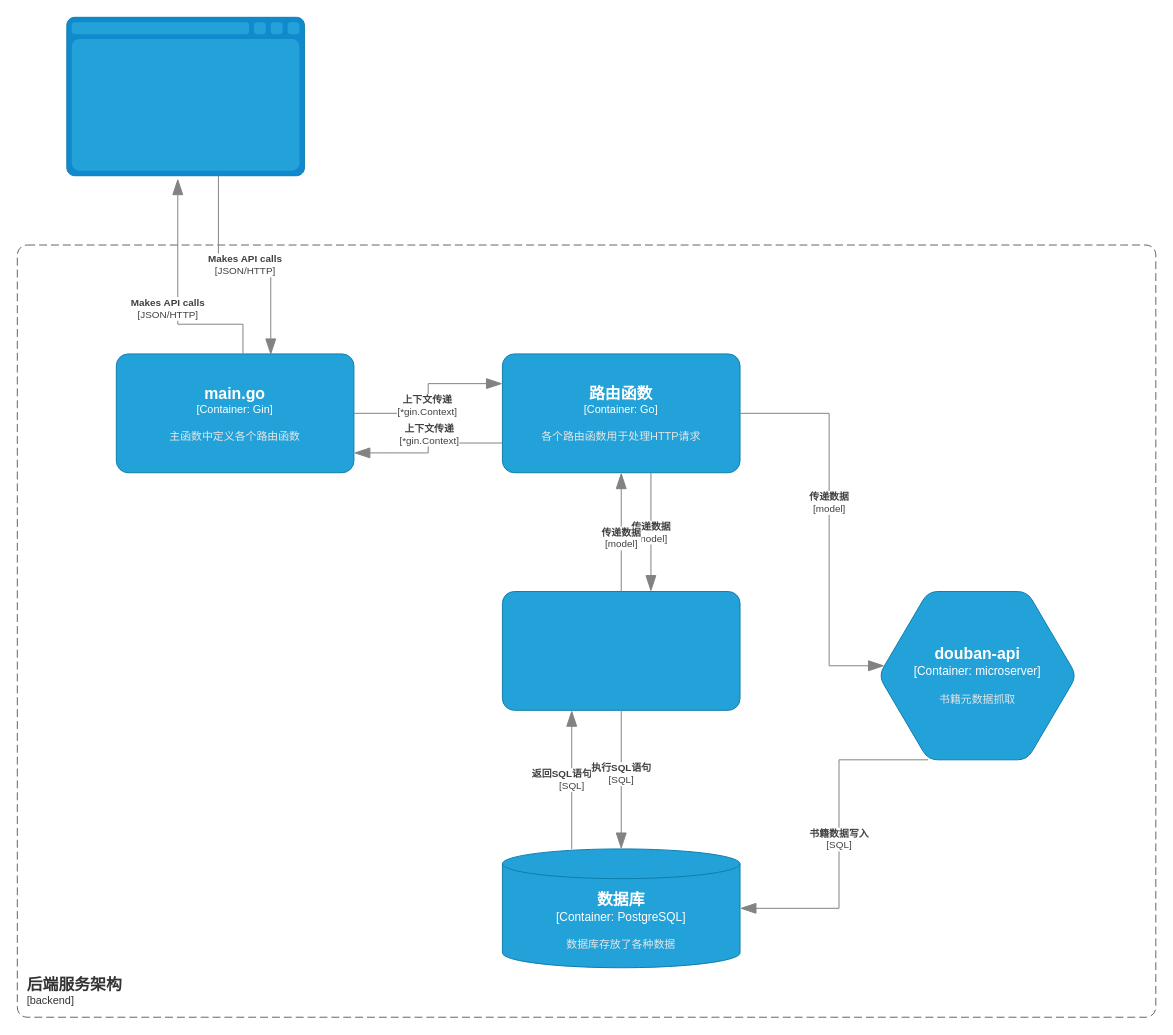
Some shapes in this 1173 by 1035 pixel diagram are drawn without their labels. Each missing label, with the centre of its shape:
"前端浏览器 [Container: Vue.js] HTTP 请求" goes at point 185,96.
"数据库处理函数 [Container: Go] 这些函数操作数据库" goes at point 620,650.
